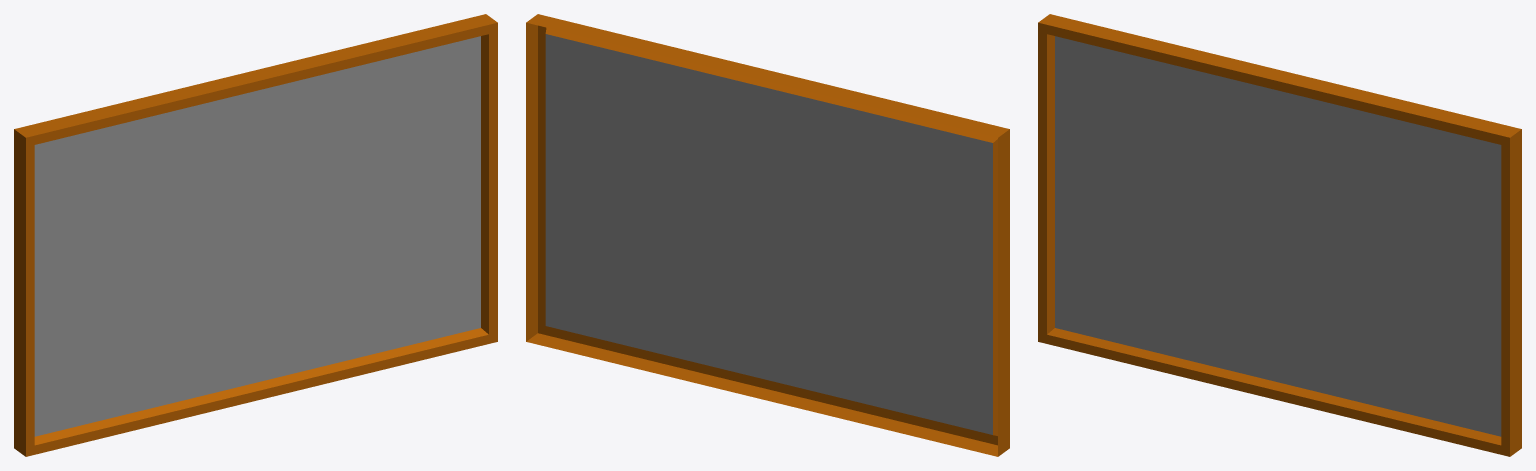
Rendered from PantallaCintas.FBX.
3 renders of one model, left to right at view 1: azimuth 30°, elevation 25°; view 2: azimuth 150°, elevation 25°; view 3: azimuth 330°, elevation 25°, orthographic.
Visible parts, largest first — view 1: Box008; view 2: Box008; view 3: Box008.
Part boxes in pixels (box(x1,y1,x2,y2)): Box008: box(14, 14, 497, 456); Box008: box(526, 14, 1009, 456); Box008: box(1038, 14, 1521, 456).
Bounding box in the file's own units: 97.05 × 62.72 × 4.2.
